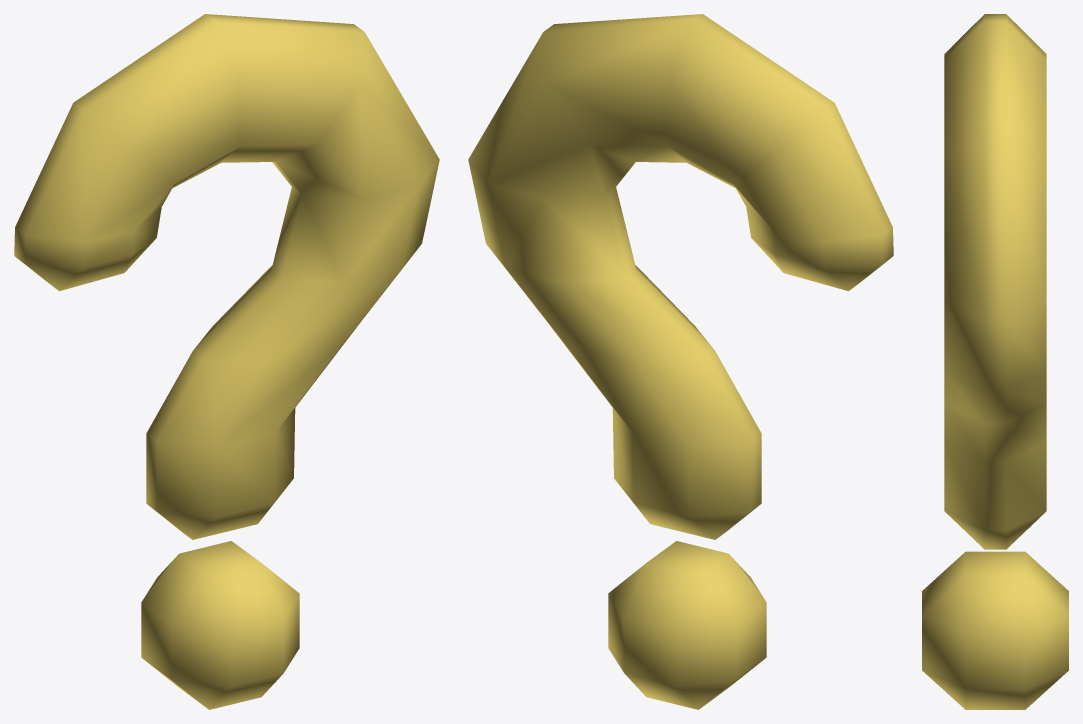
File: questionmarkGoldCompressed.glb
3 renders of one model, left to right at view 1: azimuth 30°, elevation 25°; view 2: azimuth 150°, elevation 25°; view 3: azimuth 270°, elevation 25°, orthographic.
Parts seen in each view (by area): view 1: Cube.002; view 2: Cube.002; view 3: Cube.002.
Boxes of the visible parts, x1,y1,x2,y2 form: Cube.002: [14, 14, 439, 709]; Cube.002: [468, 14, 893, 709]; Cube.002: [922, 14, 1068, 709].
Size of the model in its own units: 1 by 1.56 by 0.3099.
